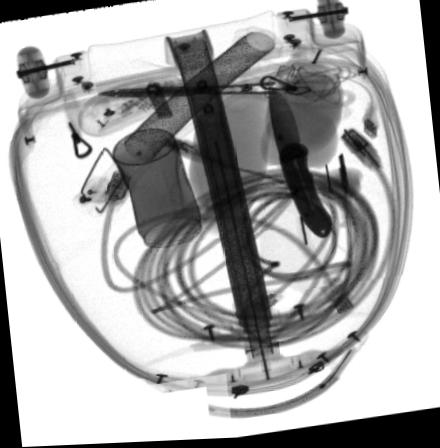Knife: (265, 83, 333, 243)
Scissors: (97, 57, 356, 116)
